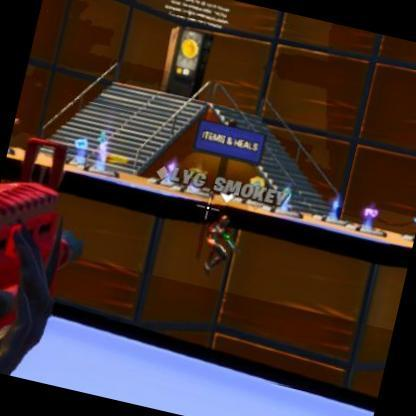person: (202, 218, 231, 276)
